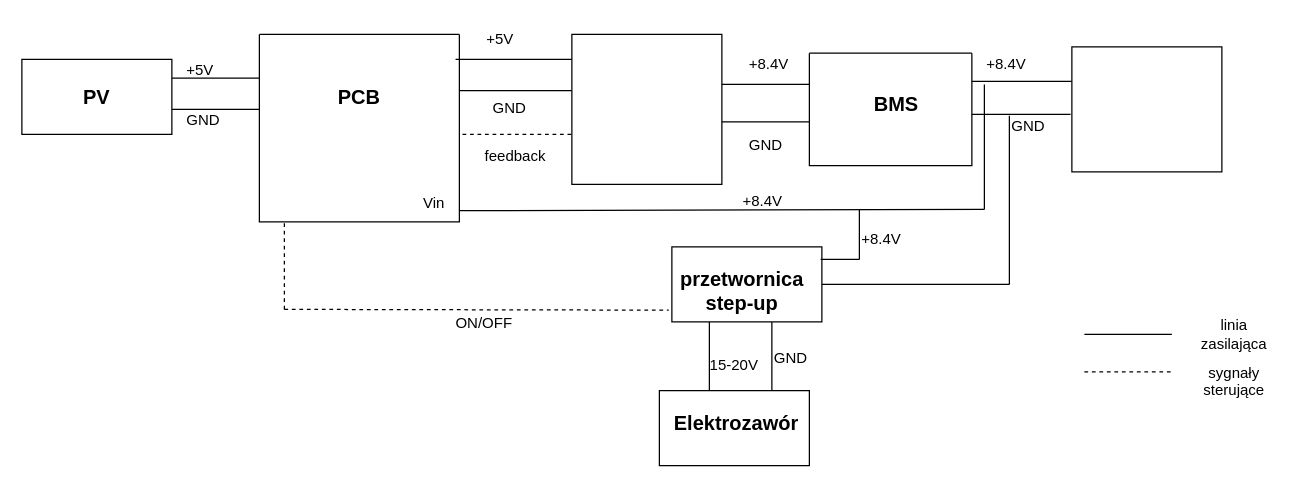
This 1294x488 diagram has some shape labels left out. The shapes that lost their labels are listed below. From the top down, each one's centre as x and y in pixels, then its label:
At (x=646, y=108): "przetwornica step-up (MPPT)".
At (x=1146, y=109): "Li-Ion (2S)".
